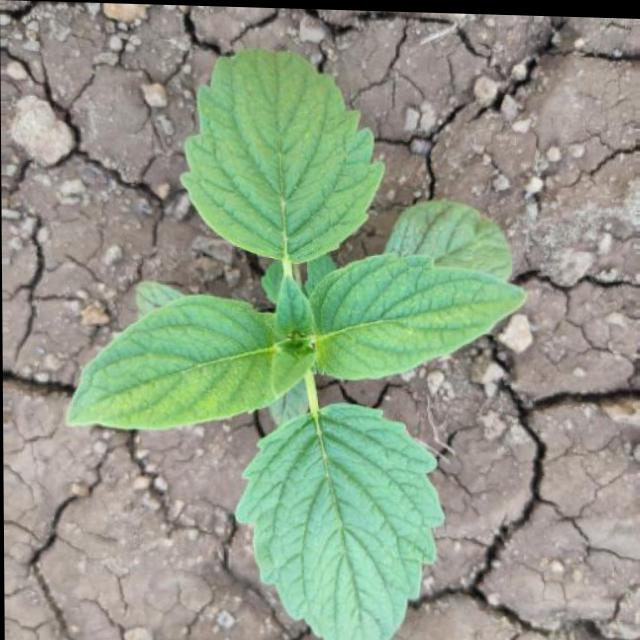crop: (74, 23, 528, 640)
